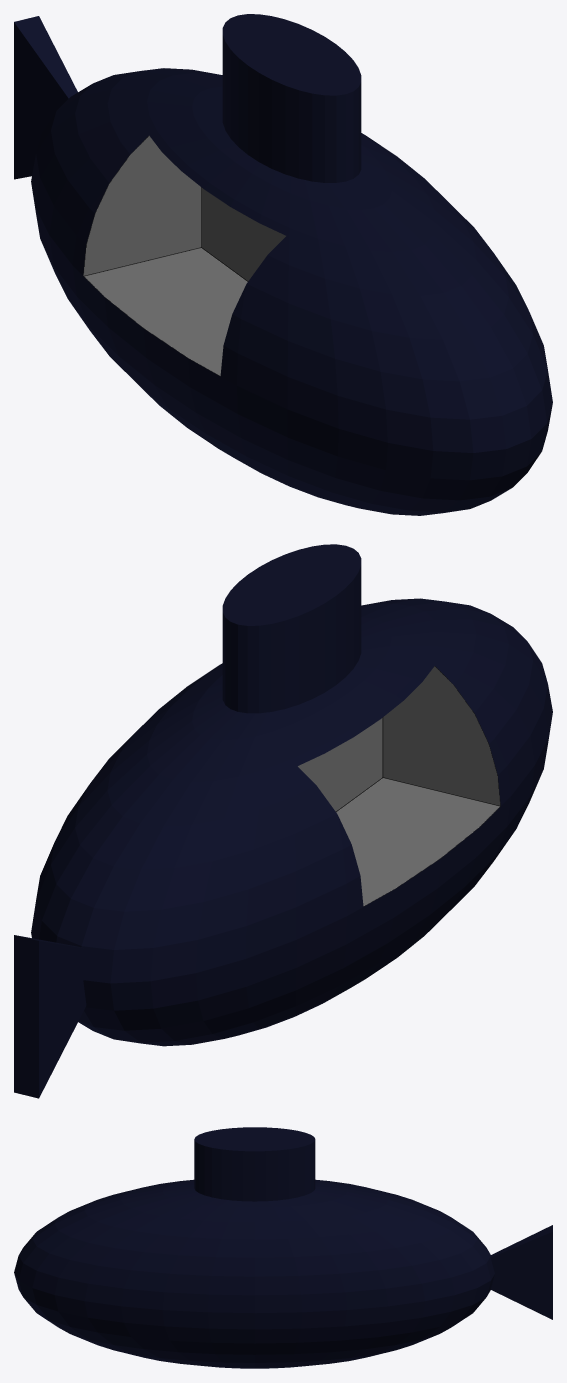
Rendered from Ship.glb.
3 renders of one model, top to bottom at view 1: azimuth 30°, elevation 25°; view 2: azimuth 150°, elevation 25°; view 3: azimuth 270°, elevation 25°, orthographic. The views are drawn at different scales.
Parts seen in each view (by area): view 1: 球; view 2: 球; view 3: 球.
Boxes of the visible parts, x1=… form: 球: x1=14, y1=14, x2=552, y2=515; 球: x1=14, y1=544, x2=552, y2=1098; 球: x1=14, y1=1127, x2=552, y2=1368.
Size of the model in its own units: 20 by 25.25 by 55.94.
Materials: 1 (1 with a texture image).
